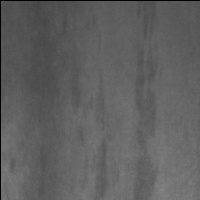inclusion: (129, 1, 166, 200), (81, 61, 113, 200), (30, 133, 60, 200), (64, 35, 87, 114), (133, 1, 158, 42)
